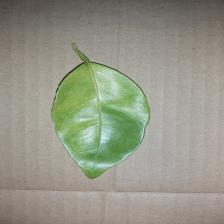greening: (50, 40, 153, 180)
